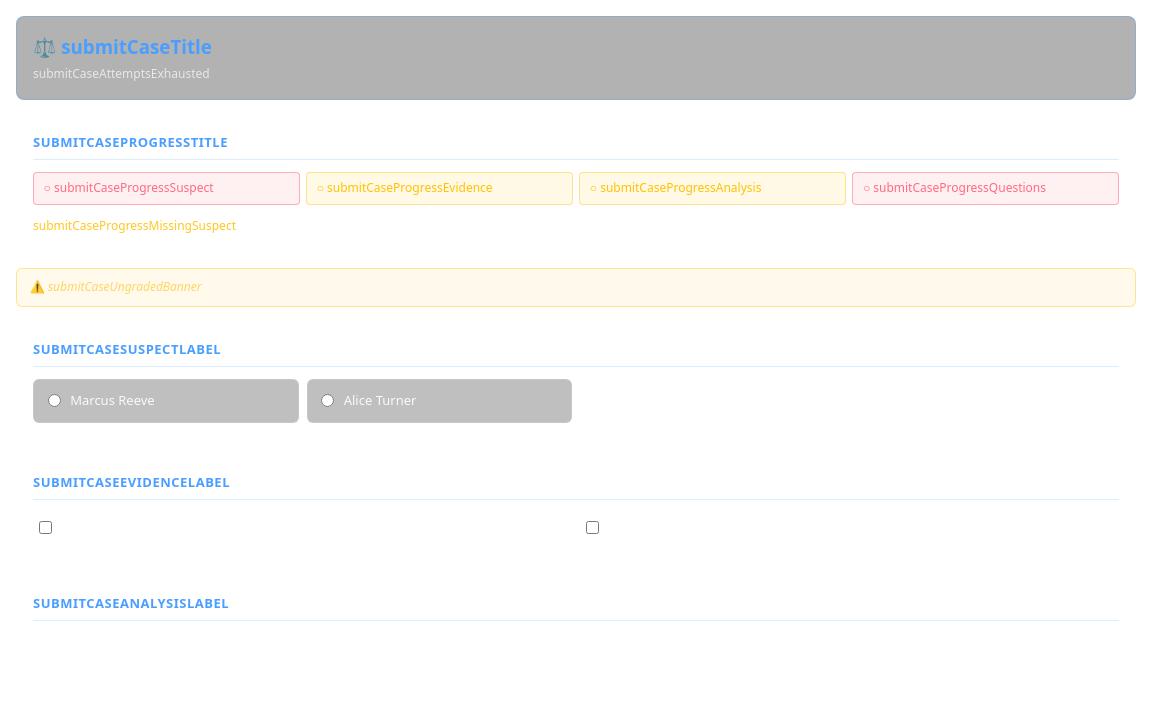
Test case: SubmitCase › button stays enabled when attemptsRemaining is 0 (ungraded mode)
Click the radio button labelled "Marcus Reeve" at (54, 401), box [48, 394, 61, 407]
(page scrolled)
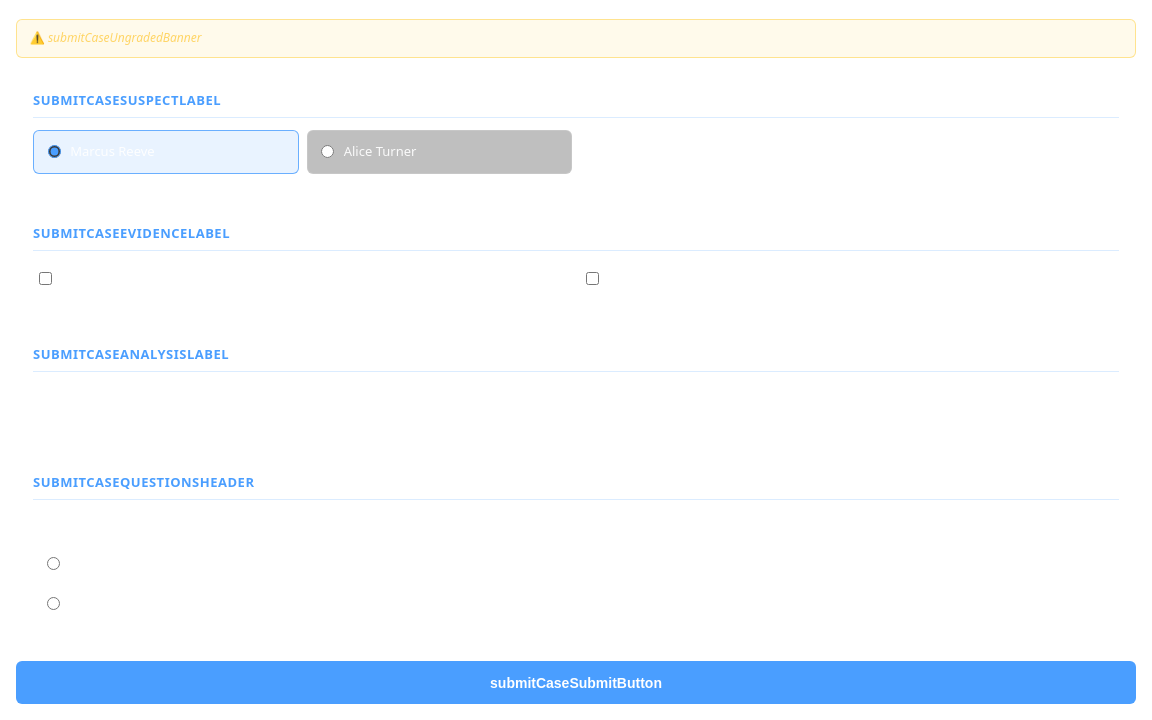
Expected: the button is enabled, [16, 661, 1136, 704]
